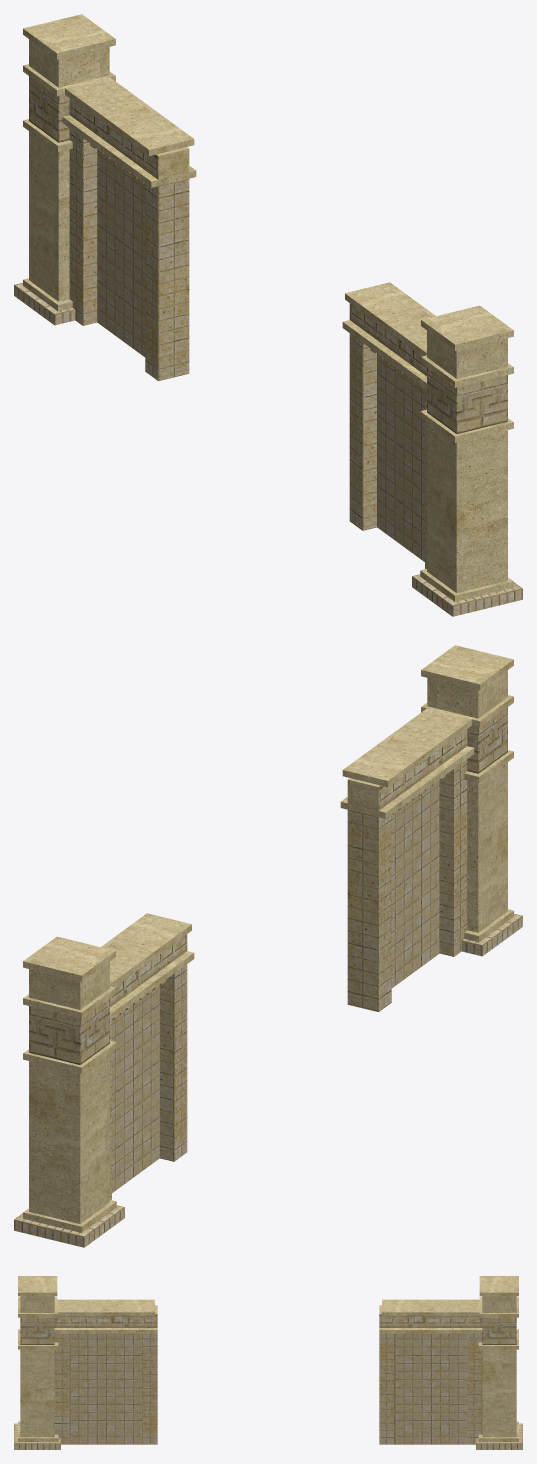
The model's file is bridge_structure_final_gate_facade_leftRight.dae.
The picture shows the model from 3 angles, top to bottom: view 1: azimuth 30°, elevation 25°; view 2: azimuth 150°, elevation 25°; view 3: azimuth 270°, elevation 25°; orthographic projection. The views are drawn at different scales.
Parts seen in each view (by area): view 1: bridge_structure_final_gate_facade_leftRight; view 2: bridge_structure_final_gate_facade_leftRight; view 3: bridge_structure_final_gate_facade_leftRight.
Part boxes in pixels (x1,y1,x2,y2): bridge_structure_final_gate_facade_leftRight: [14, 14, 522, 616]; bridge_structure_final_gate_facade_leftRight: [14, 645, 522, 1247]; bridge_structure_final_gate_facade_leftRight: [14, 1276, 522, 1449].
Bounding box in the file's own units: 3.62 × 39.13 × 13.21.
Materials: 6 (6 with a texture image).
